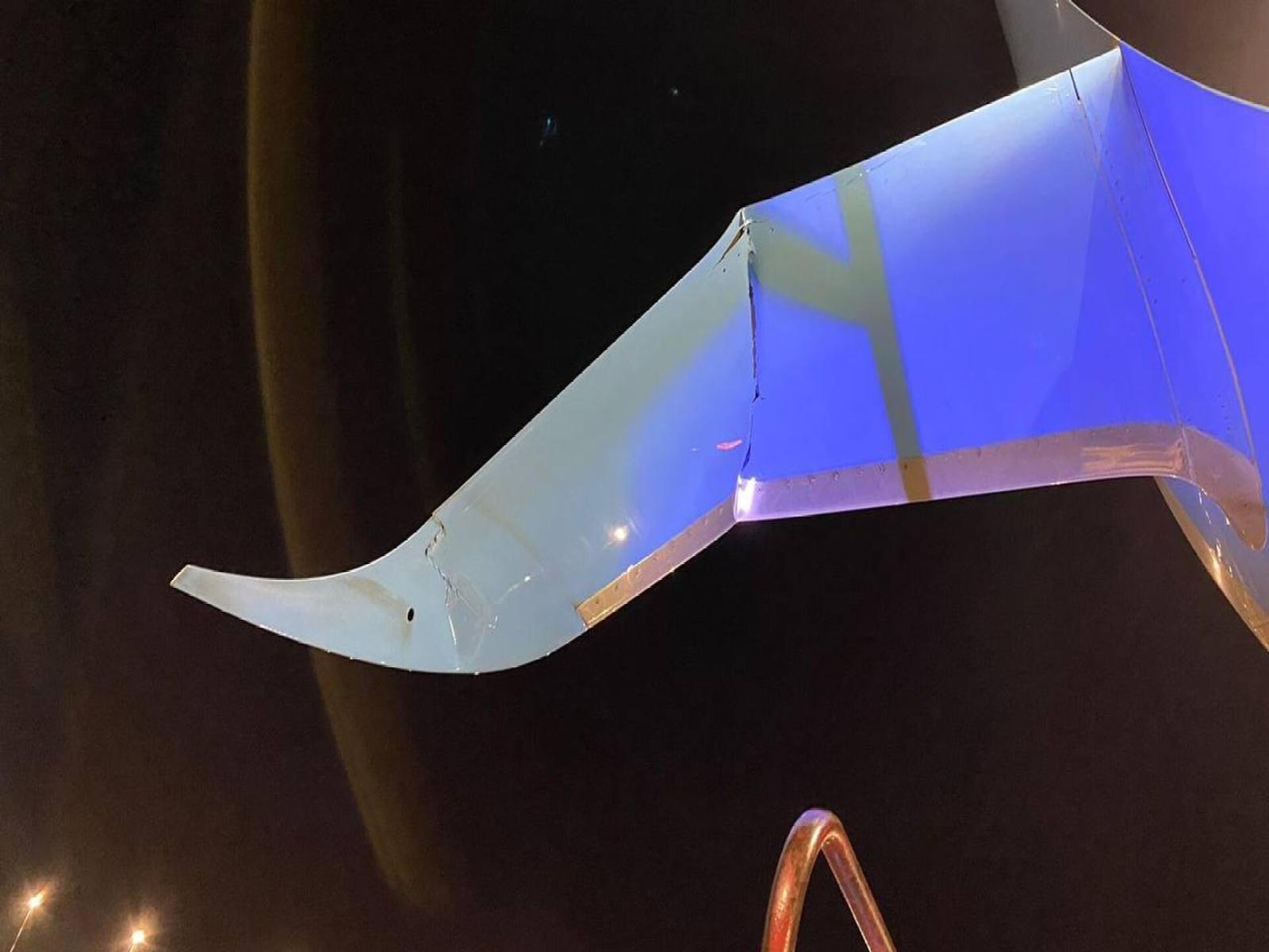Wing_damage: (670, 200, 796, 534), (402, 480, 479, 675)
